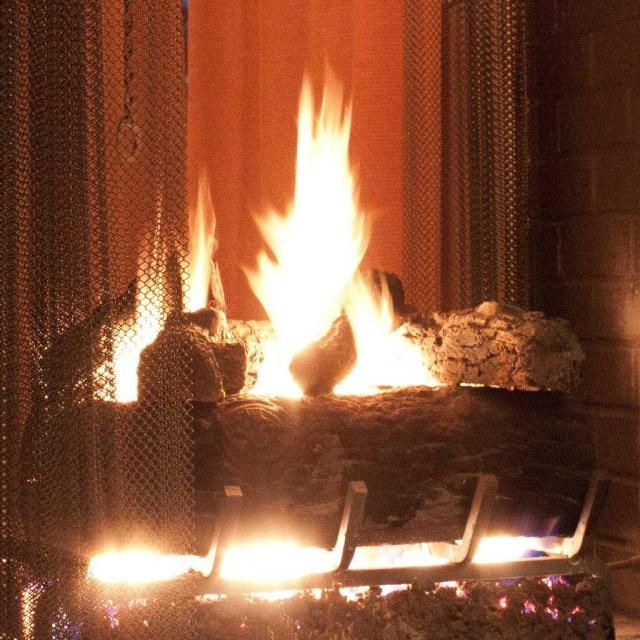Fire: (286, 217, 361, 377)
